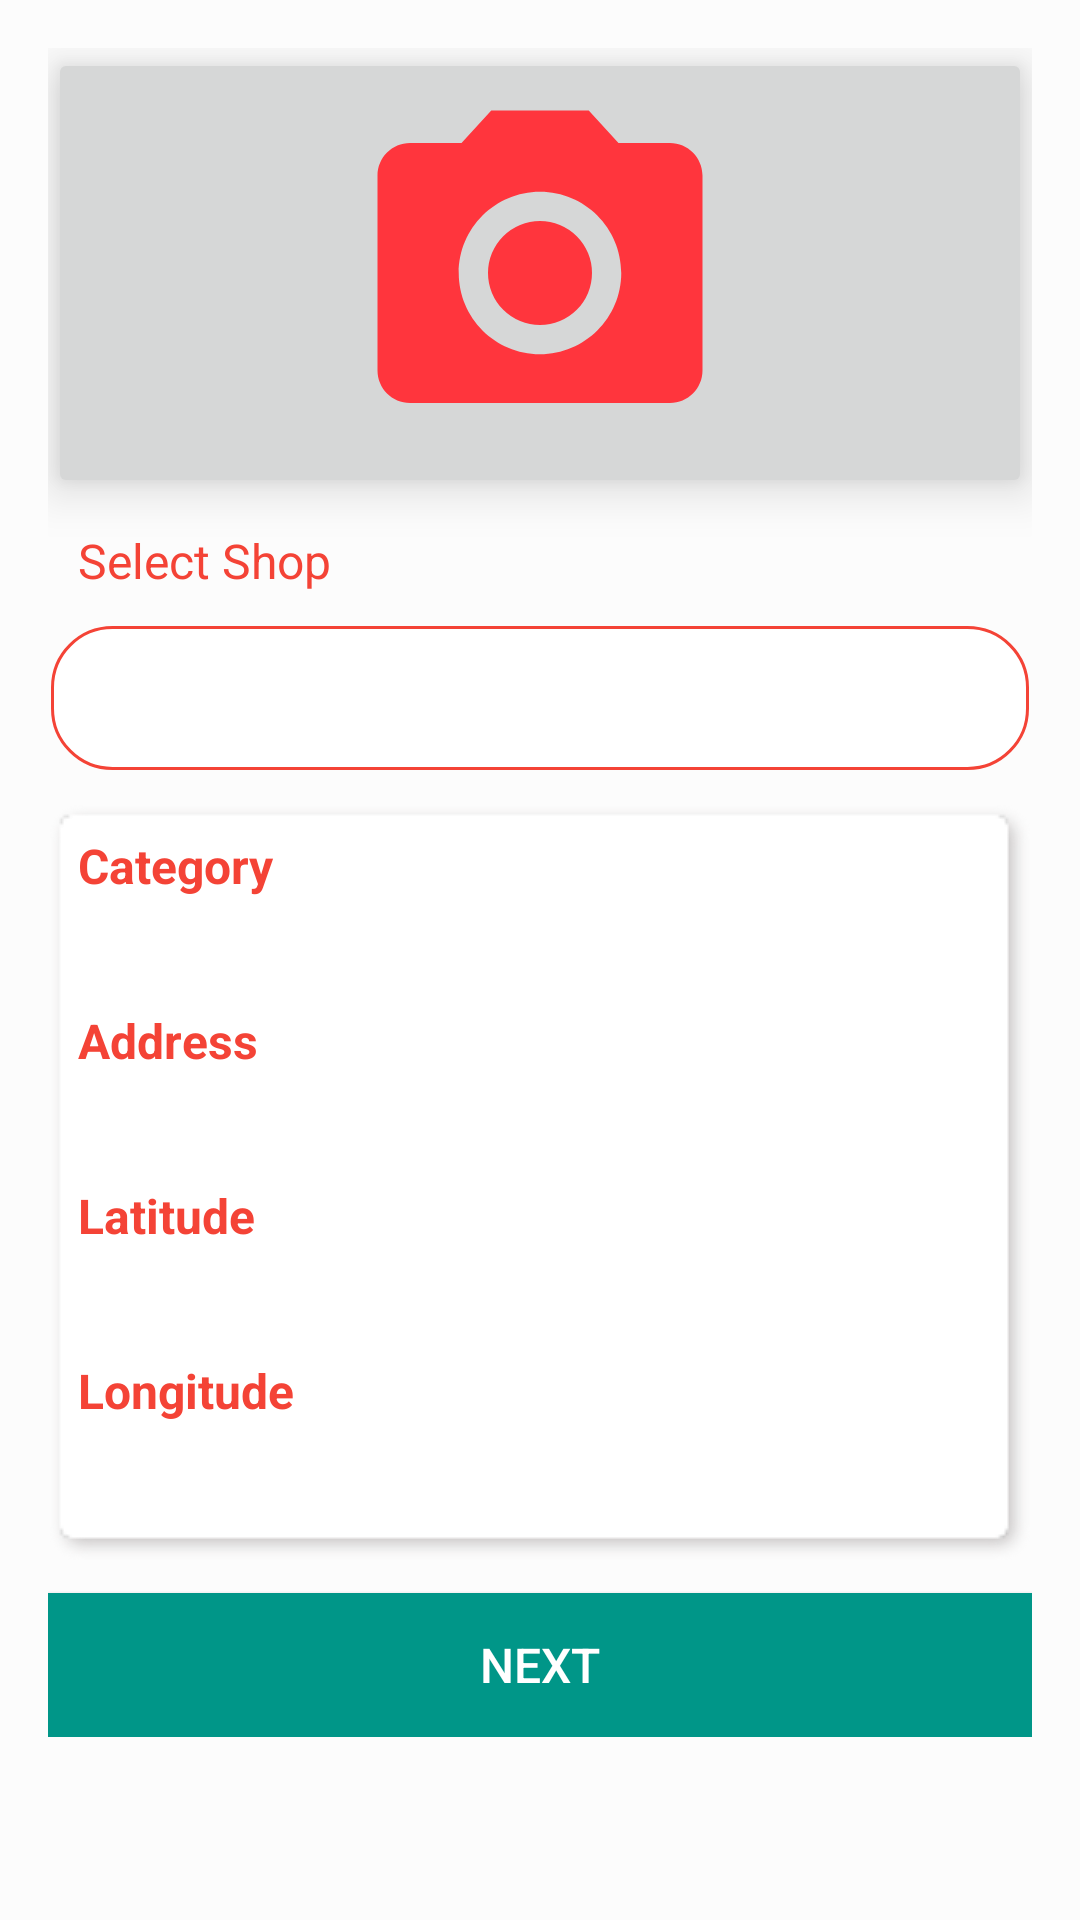

Where to tap for icons on this 1080x1920 app screen, as point (x, y):
member camera: point (540, 256)
